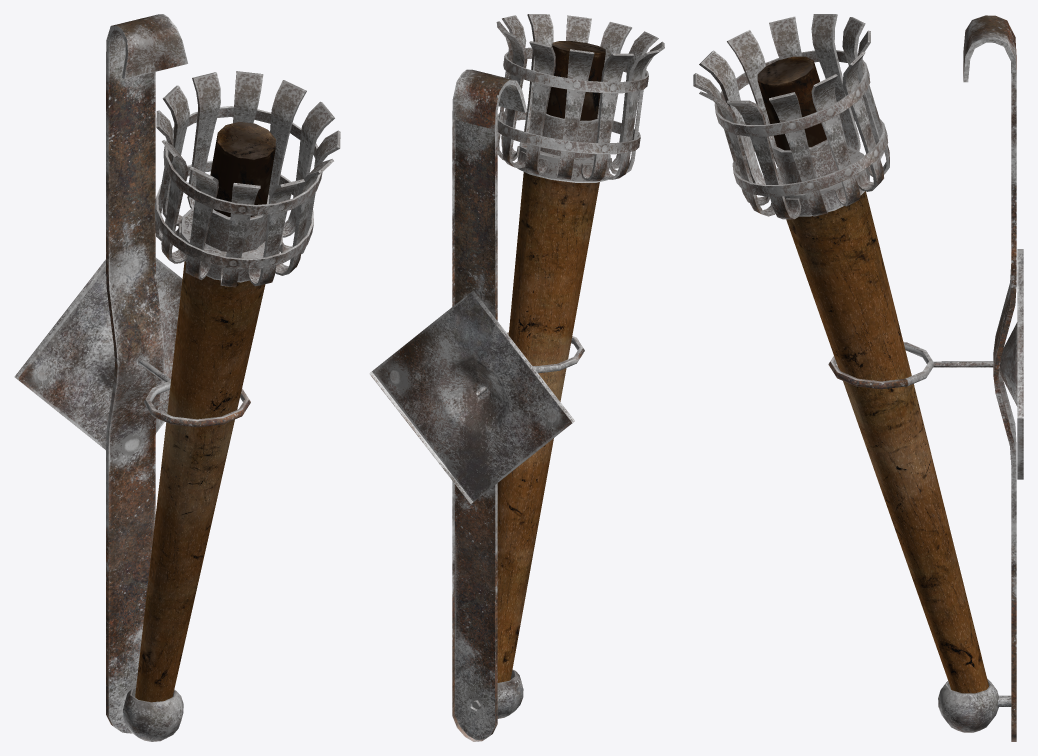
The model's file is Torch.fbx.
3 renders of one model, left to right at view 1: azimuth 30°, elevation 25°; view 2: azimuth 150°, elevation 25°; view 3: azimuth 270°, elevation 25°, orthographic. The views are drawn at different scales.
Visible parts, largest first — view 1: Torch; view 2: Torch; view 3: Torch.
Part boxes in pixels (x1,y1,x2,y2): Torch: (14, 14, 340, 741); Torch: (369, 14, 664, 741); Torch: (693, 14, 1023, 741).
Size of the model in its own units: 0.6124 by 1.89 by 0.7926.
1 material, 1 textured.
